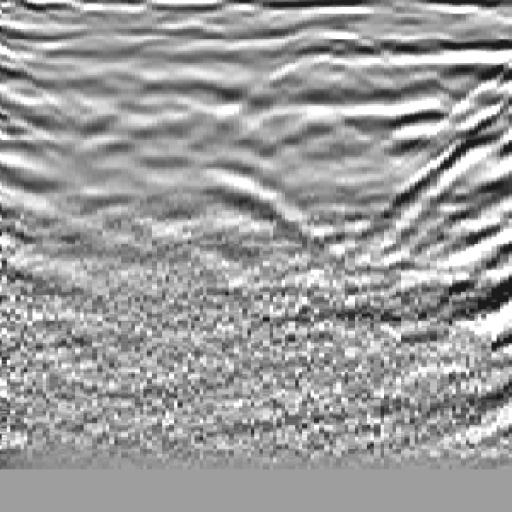metalic: (166, 46, 324, 274)
nonmetalic: (385, 48, 512, 281)
